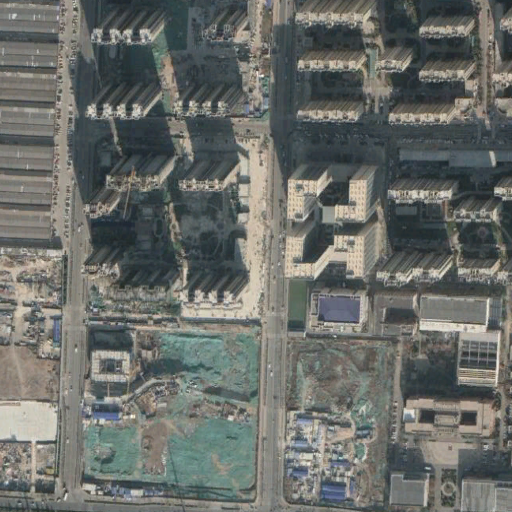cw: (84, 324, 260, 501), (283, 333, 395, 512)
